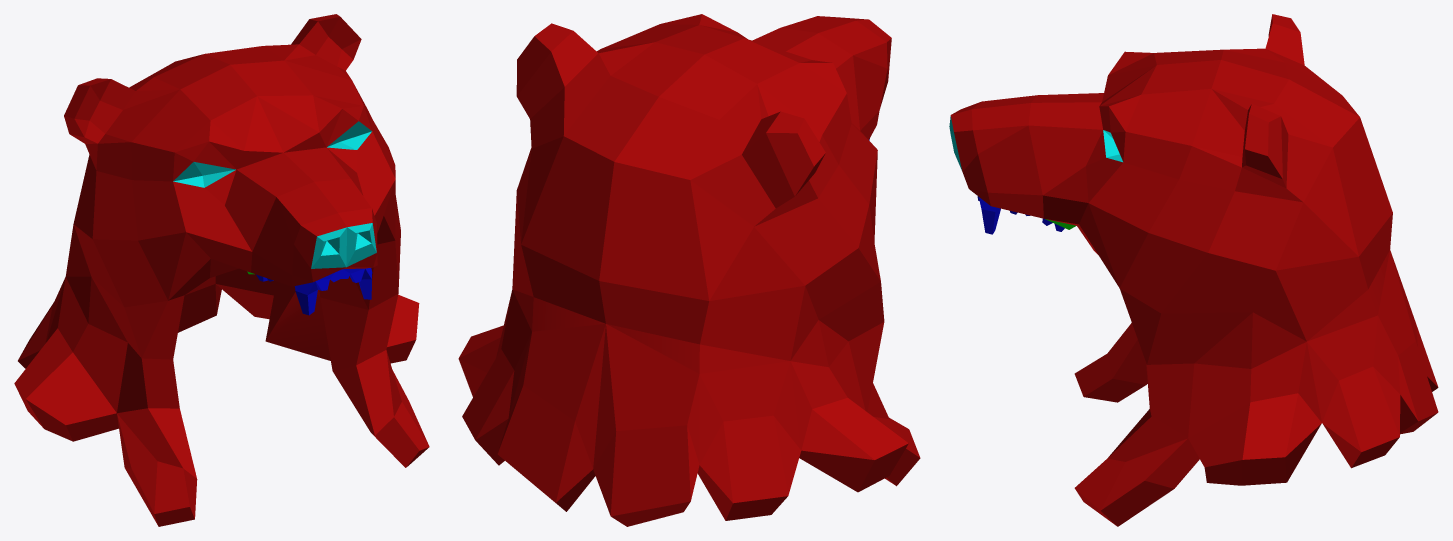
The model's file is Chr_HeadCoverings_NoHair_Static_09.fbx.
3 views of the same model, side by side, from view 1: azimuth 30°, elevation 25°; view 2: azimuth 150°, elevation 25°; view 3: azimuth 270°, elevation 25° (orthographic). The views are drawn at different scales.
Visible parts, largest first — view 1: Chr_HeadCoverings_No_Hair_09; view 2: Chr_HeadCoverings_No_Hair_09; view 3: Chr_HeadCoverings_No_Hair_09.
Part boxes in pixels (x1,y1,x2,y2): Chr_HeadCoverings_No_Hair_09: (14, 14, 429, 526); Chr_HeadCoverings_No_Hair_09: (458, 14, 920, 526); Chr_HeadCoverings_No_Hair_09: (949, 14, 1438, 526).
Size of the model in its own units: 53.83 by 52.69 by 56.75.
